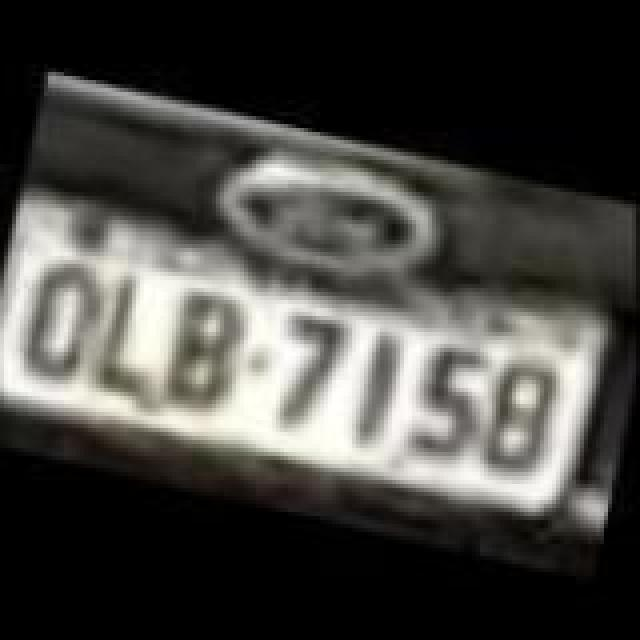1: (344, 322, 416, 450)
5: (404, 330, 492, 462)
7: (256, 306, 348, 438)
8: (472, 348, 568, 480)
B: (158, 284, 254, 412)
L: (82, 266, 186, 402)
O: (14, 250, 102, 382)
